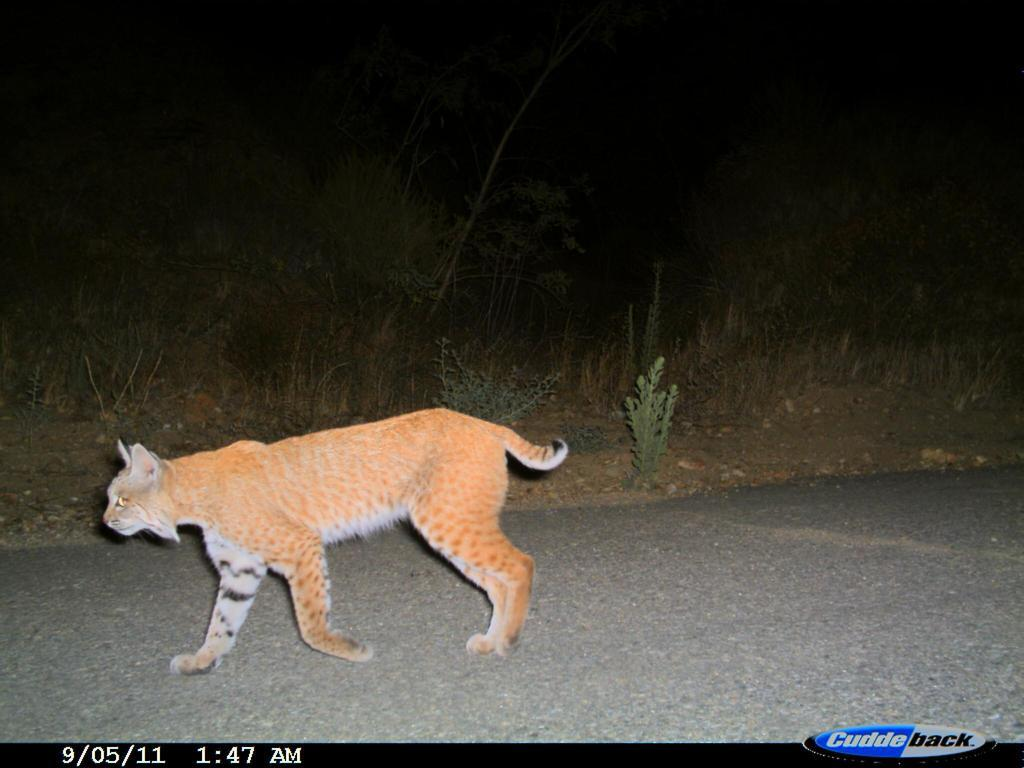bobcat: (94, 395, 578, 687)
